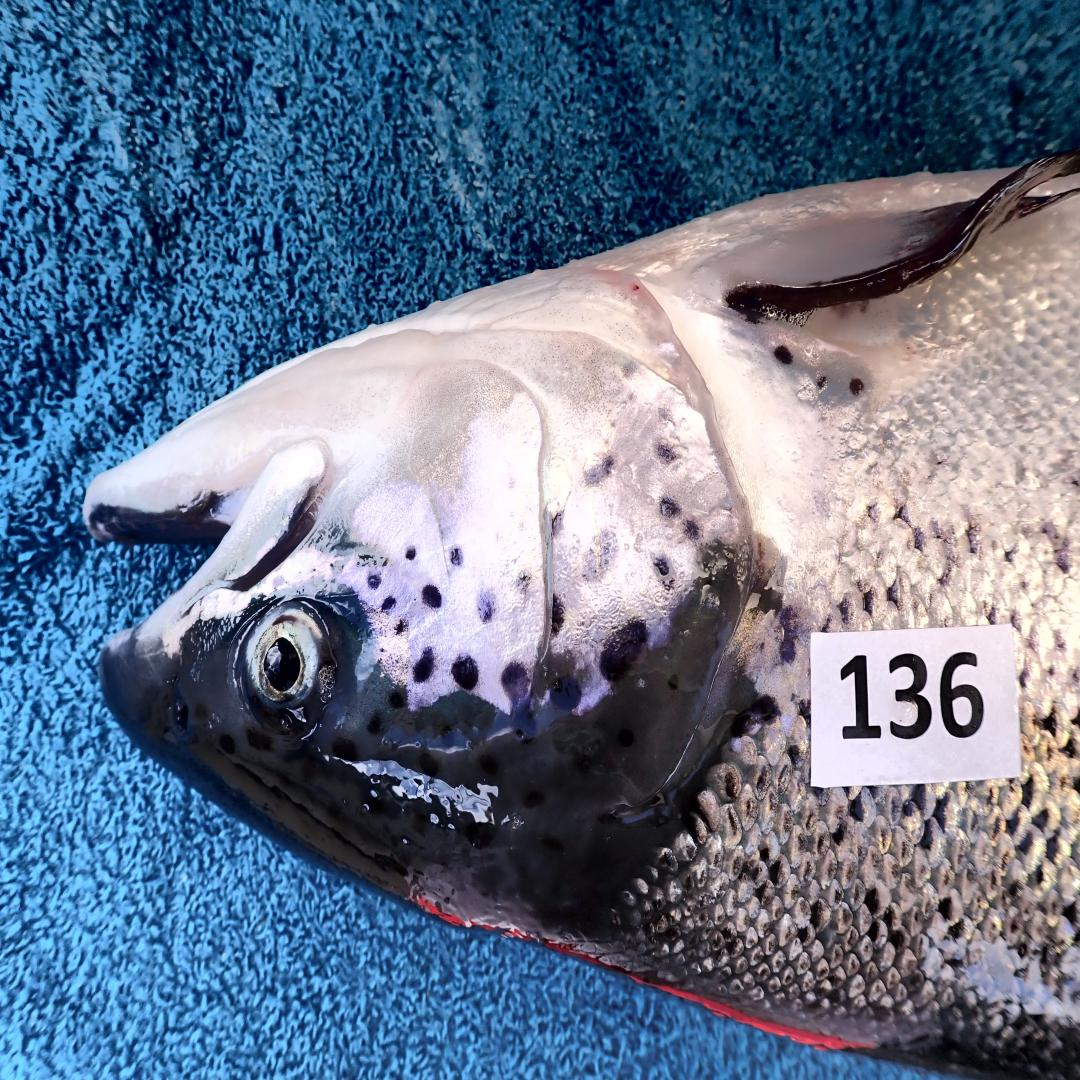spot: (599, 619, 648, 681), (582, 529, 618, 582), (502, 661, 529, 703), (551, 678, 582, 712), (451, 655, 479, 692), (584, 456, 614, 487), (413, 647, 435, 683), (652, 557, 675, 587), (477, 590, 496, 625), (550, 592, 564, 637), (422, 585, 443, 610), (660, 495, 681, 518), (657, 442, 676, 467), (515, 569, 531, 596), (683, 520, 701, 543), (382, 596, 398, 617), (552, 513, 564, 540), (658, 407, 675, 425), (449, 546, 464, 565), (621, 362, 637, 379), (367, 573, 382, 589), (397, 619, 407, 636), (405, 546, 416, 560)
